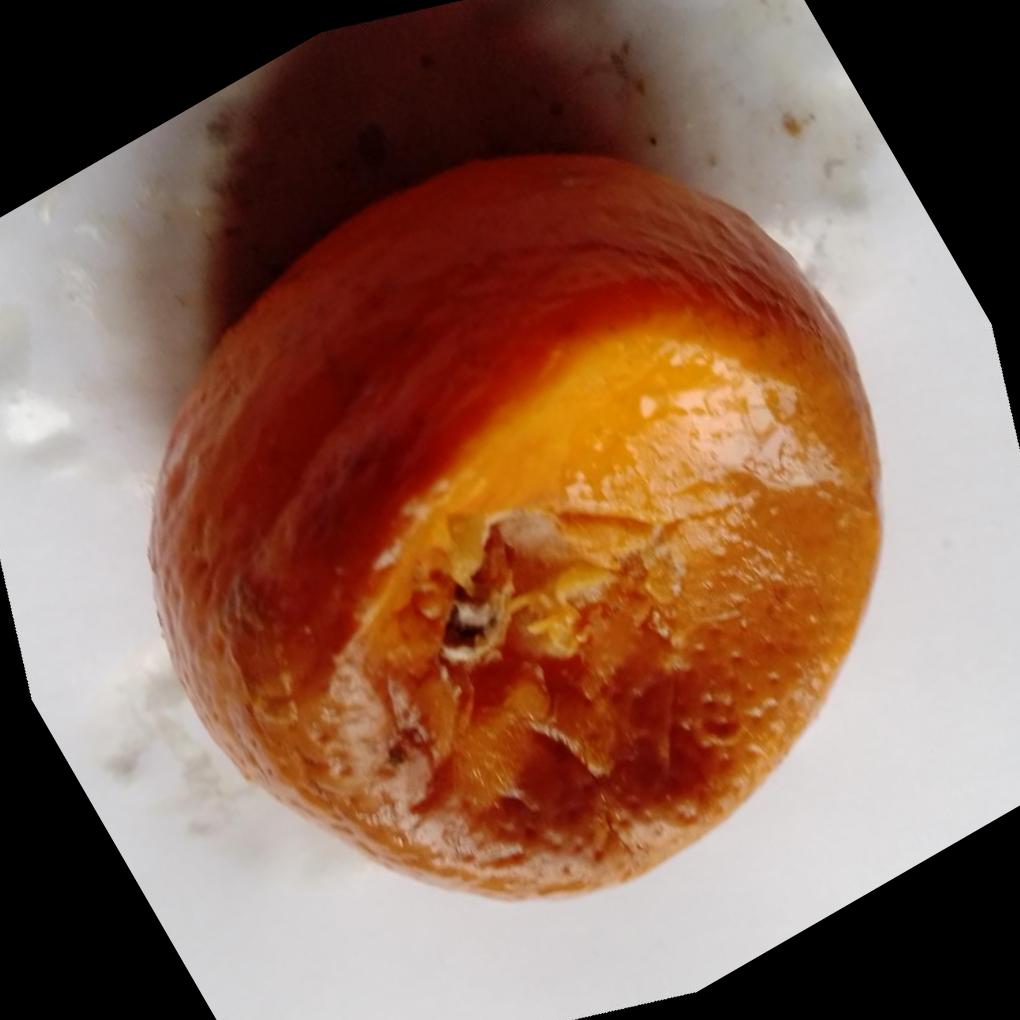FreshOrange: (144, 143, 882, 902)
